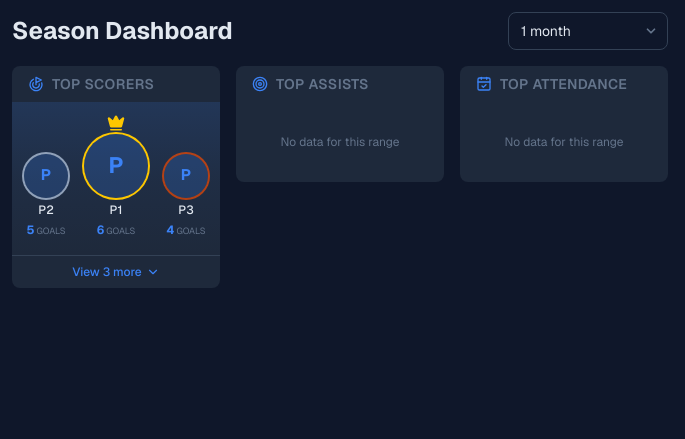
Scenario: SeasonDashboardPage › initially shows only top 3 on podium; rank 4+ hidden behind Show more
Expected: the link "P1" is shown, [110,202,122,218]
Expected: the link "P2" is shown, [38,202,54,218]
Click the button "View 3 more" at (116, 271), box [12,254,220,288]
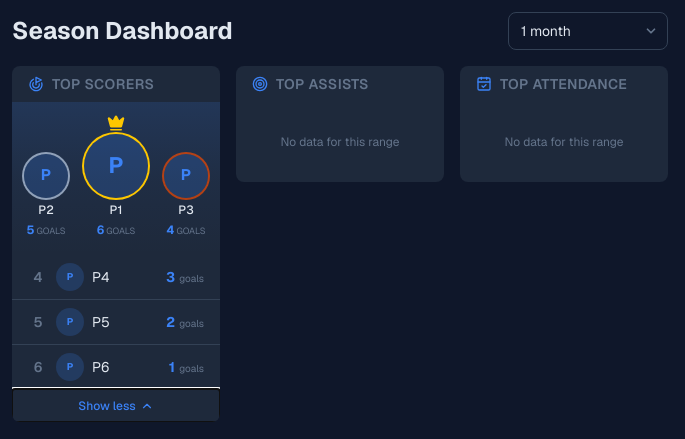
Now the link "P4" is shown, box [92,268,110,286]
Now the link "P5" is shown, box [92,312,110,330]
Now the link "P6" is shown, box [92,358,109,376]
Click the button "Show less" at (116, 405), box [12,388,220,422]
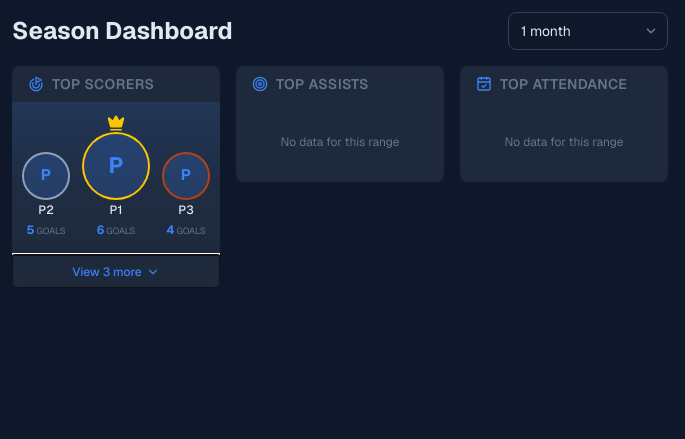
Now the link "P4" is gone
